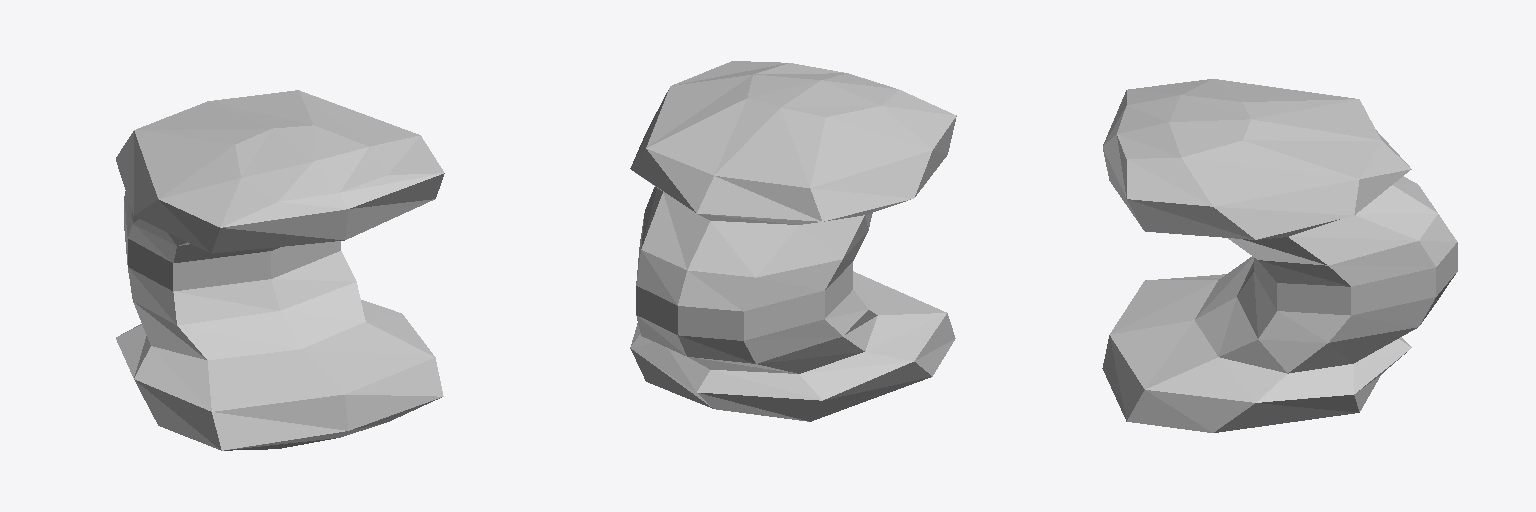
File: bone.obj
3 views of the same model, side by side, from view 1: azimuth 30°, elevation 25°; view 2: azimuth 150°, elevation 25°; view 3: azimuth 270°, elevation 25° (orthographic).
Size of the model in its own units: 1.06 by 1.03 by 1.21.